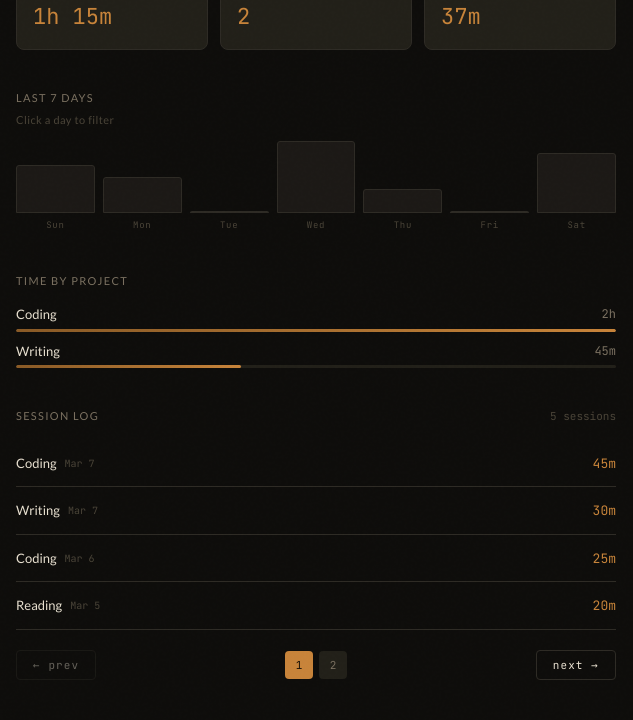
Scenario: DashboardPage › handles inline tag editing
(page scrolled)
Check: the text "Writing" is shown, box [16, 342, 60, 361]
Click the first one
Click the button "Writing": [38, 511] box [16, 501, 60, 520]
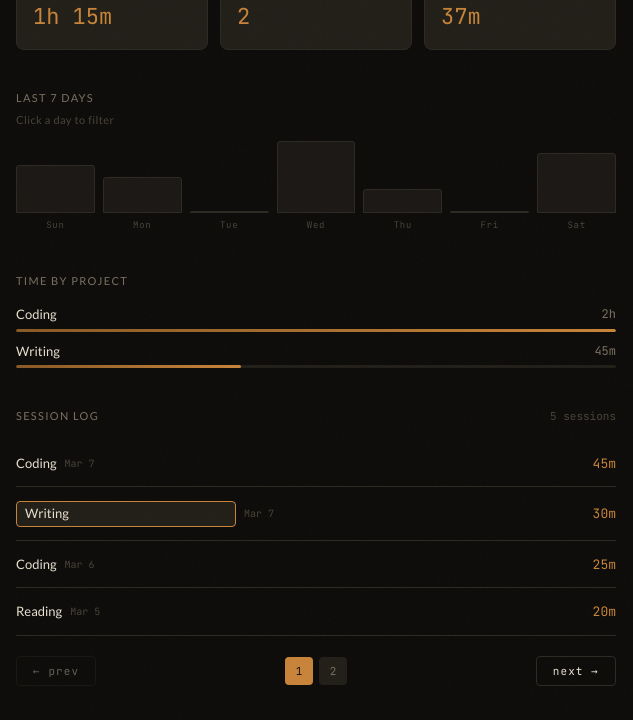
Check: the field is shown
Replace the text in the field with "New Tag": [126, 514] box [16, 501, 236, 526]
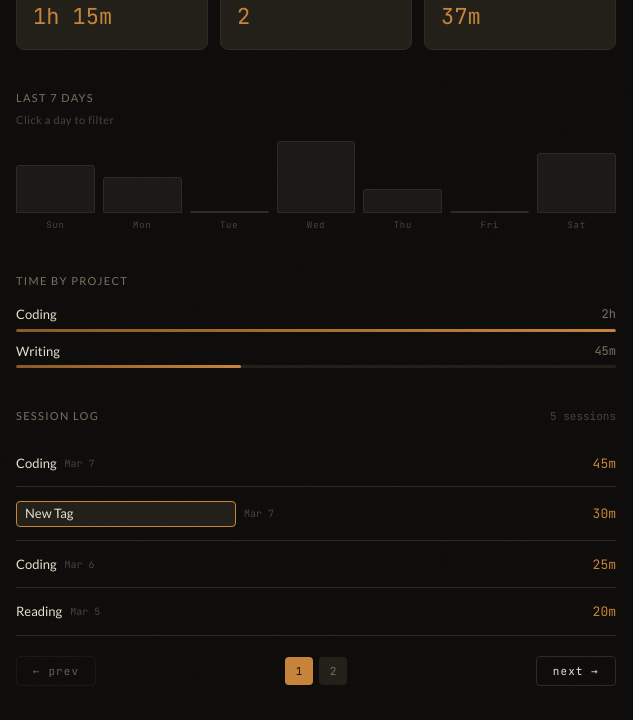
Use fireEvent for deterministic enter key to trigger onKeyDown
Press Enter in the field, box [16, 501, 236, 526]
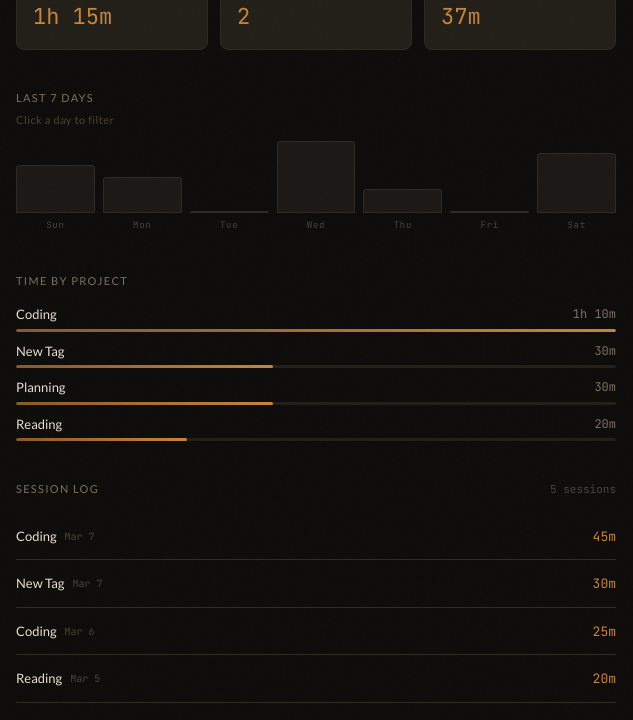
Check: the text "New Tag" is shown, box [16, 342, 64, 361]
